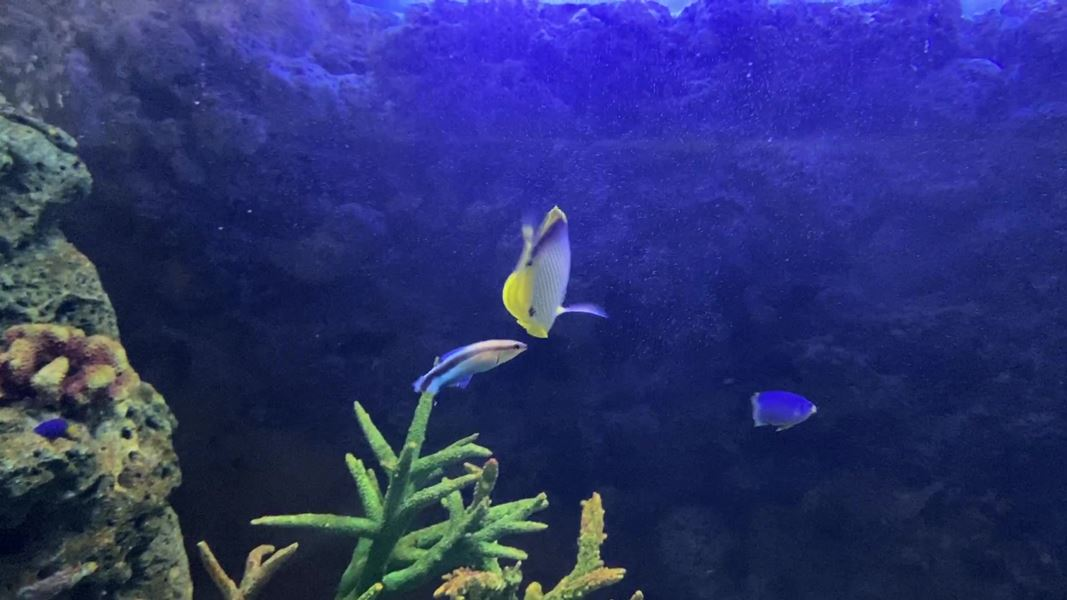Bluesteak cleaner wrasse: (408, 330, 527, 412)
